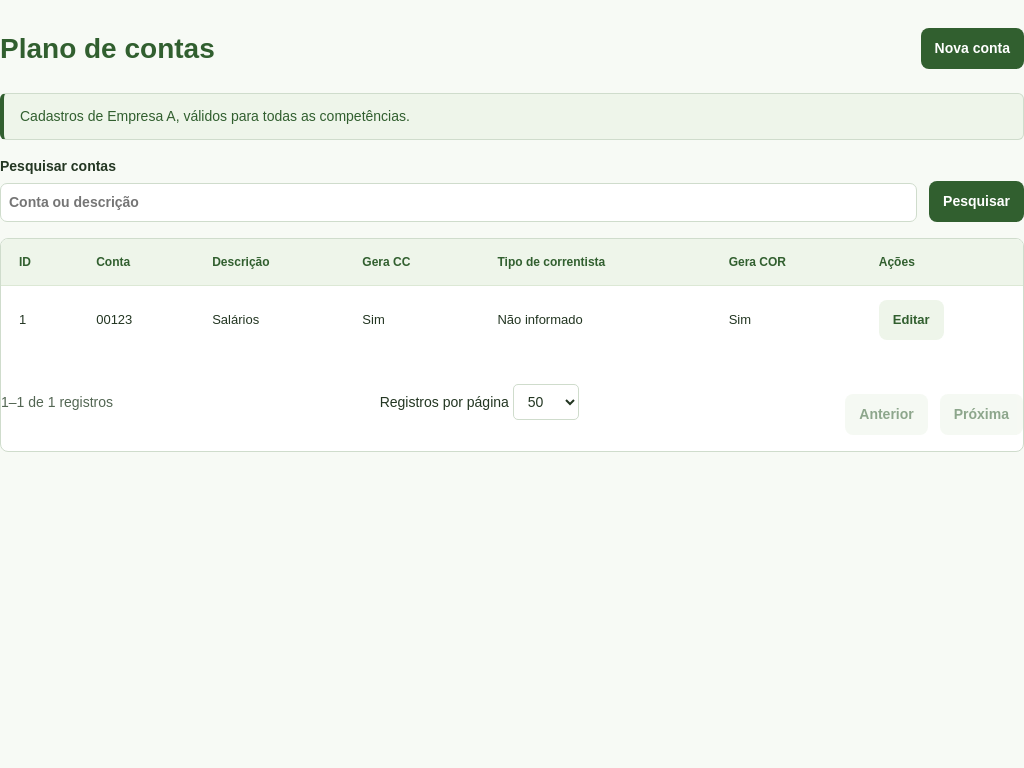
Test: edits only changed fields without replacing a legacy null type or resetting COR
Click the button with aria-label "Editar conta 1". click: (911, 320)
box: [879,300,944,340]
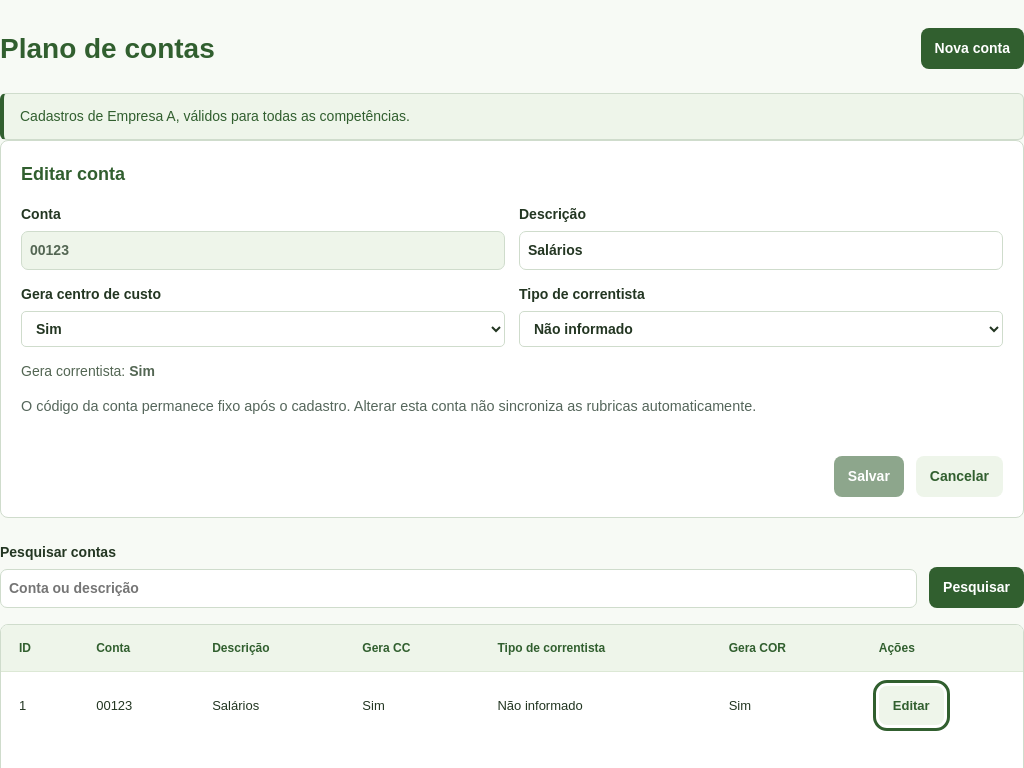
Result: the field labelled "Conta" is disabled at [21,231,505,270]
Replace the text in the field labelled "Descrição" with "Nova". click: (761, 250)
box: [519,231,1003,270]
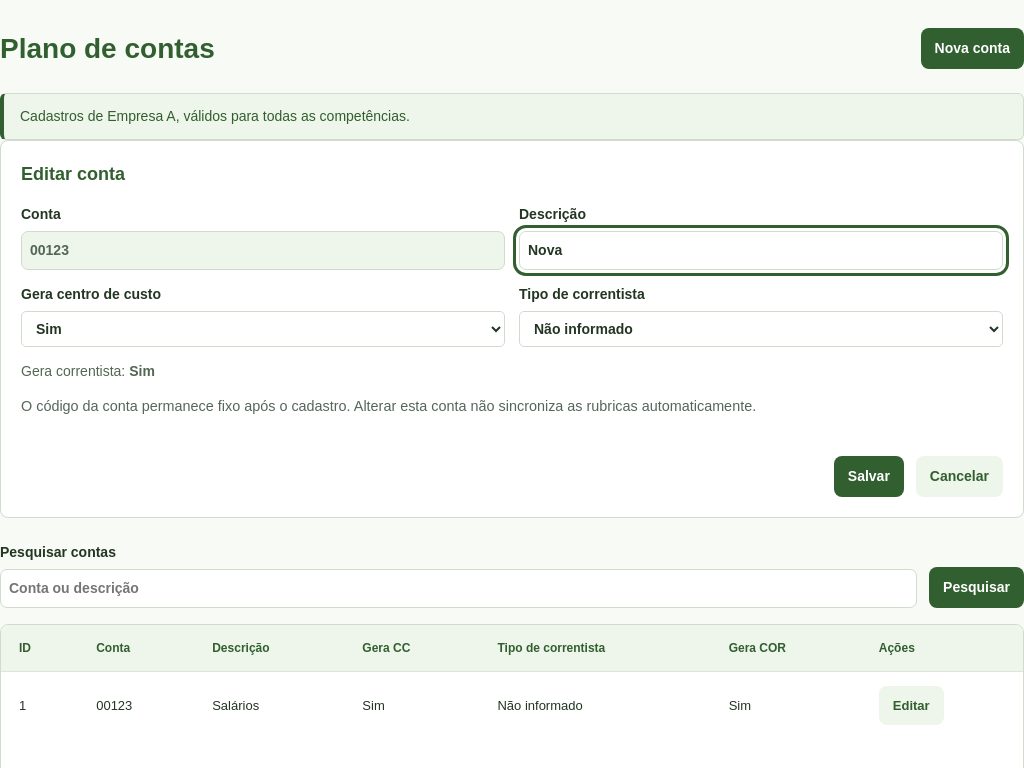
Click the button "Salvar". click: (869, 476)
box: [834,456,904,497]
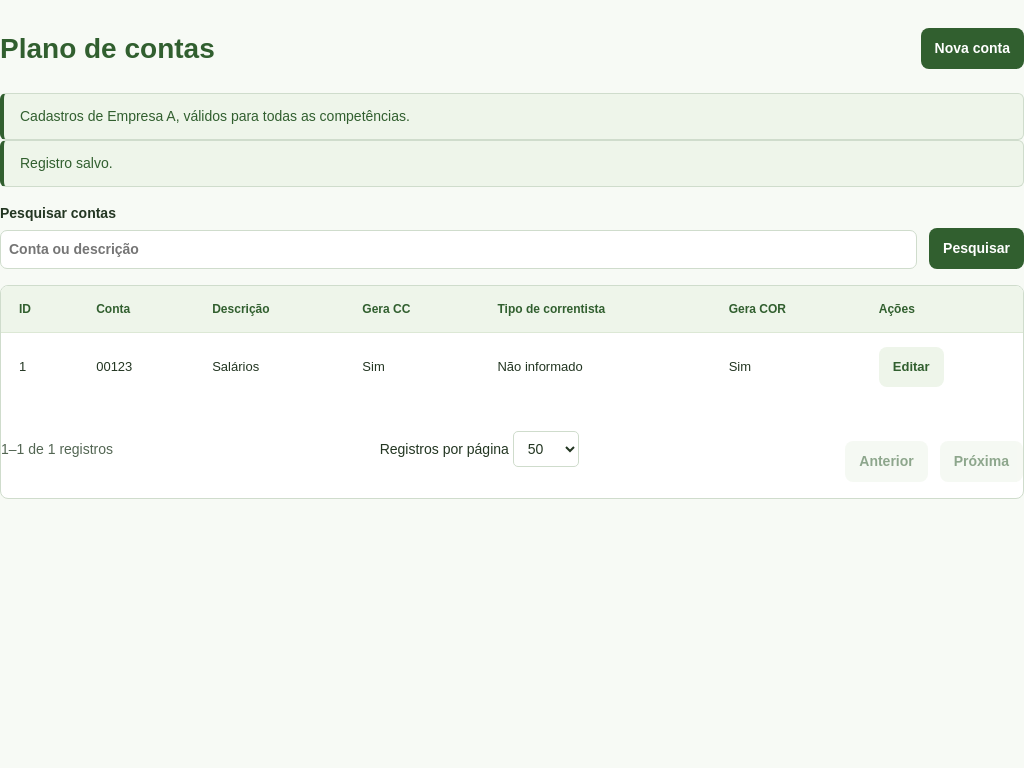
Result: the text "Registro salvo." is shown at [0,140,1023,187]
